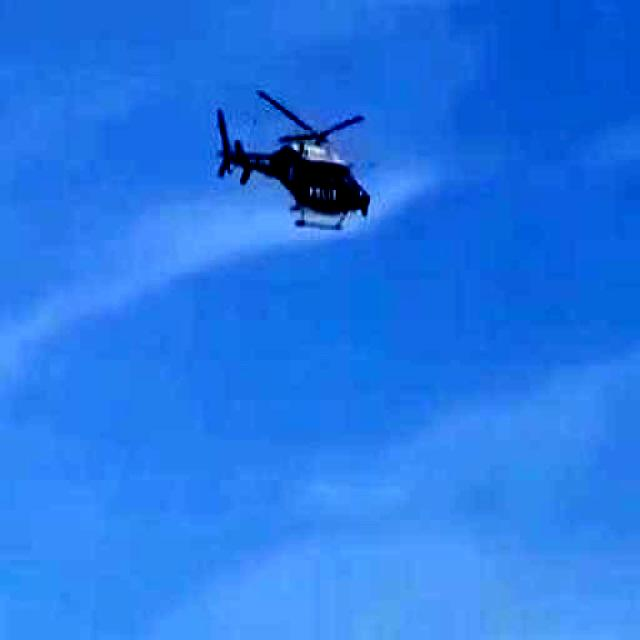drone: (192, 42, 399, 301)
